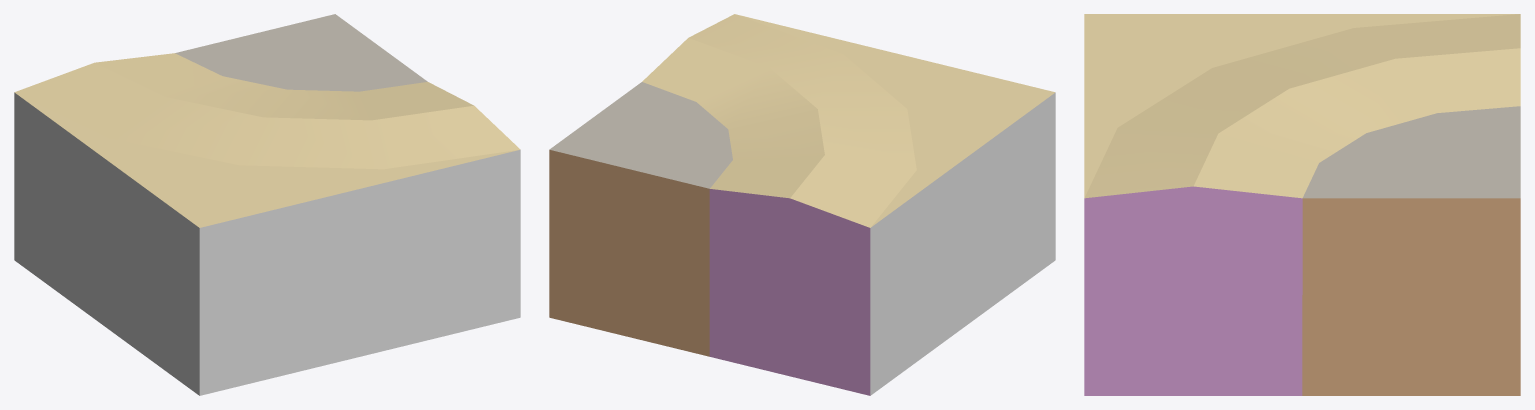
Rendered from Tiered_Walkway_Path_Transition_Curve_Inner_2x2.glb.
The picture shows the model from 3 angles, left to right: view 1: azimuth 30°, elevation 25°; view 2: azimuth 150°, elevation 25°; view 3: azimuth 270°, elevation 25°; orthographic projection. The views are drawn at different scales.
Parts seen in each view (by area): view 1: Tiered_Walkway_Path_Transition_Curve_Inner_2x2; view 2: Tiered_Walkway_Path_Transition_Curve_Inner_2x2; view 3: Tiered_Walkway_Path_Transition_Curve_Inner_2x2.
Part boxes in pixels (left/top/right/bottom): Tiered_Walkway_Path_Transition_Curve_Inner_2x2: left=14, top=14, right=520, bottom=395; Tiered_Walkway_Path_Transition_Curve_Inner_2x2: left=549, top=14, right=1055, bottom=395; Tiered_Walkway_Path_Transition_Curve_Inner_2x2: left=1084, top=14, right=1520, bottom=395.
Bounding box in the file's own units: 200 × 106 × 200.
